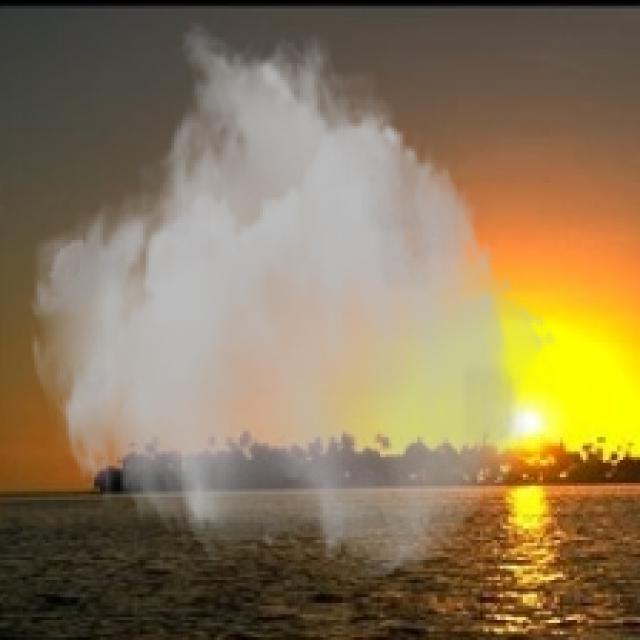smoke: (26, 20, 557, 583)
